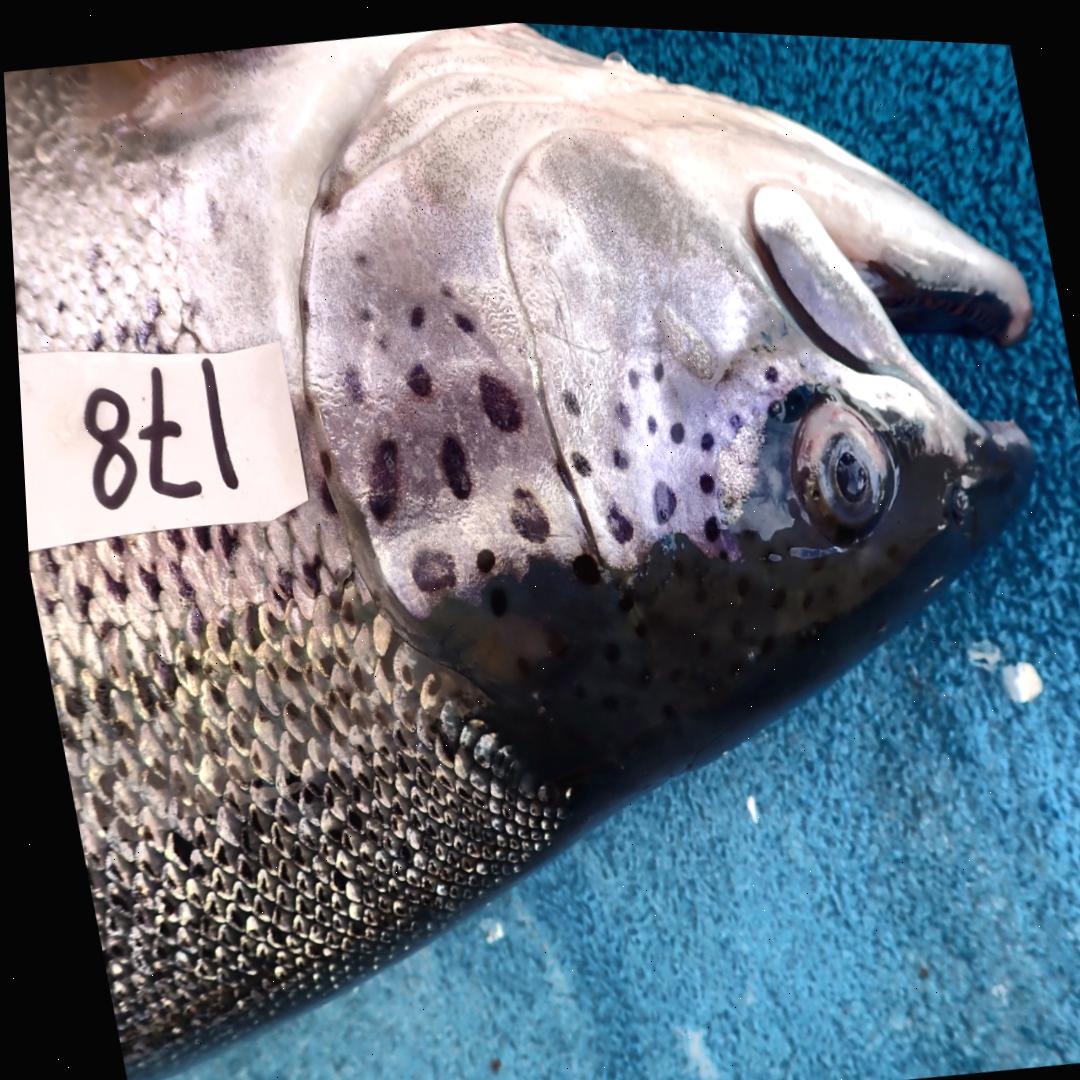spot: (360, 434, 393, 520), (473, 369, 517, 428), (503, 482, 544, 538), (404, 545, 450, 588), (434, 431, 465, 494), (547, 451, 573, 499), (600, 495, 627, 538), (646, 473, 670, 519), (401, 359, 428, 394), (338, 363, 359, 400), (687, 424, 713, 447), (468, 543, 488, 569), (565, 446, 585, 472), (348, 300, 370, 321), (557, 384, 574, 410), (605, 442, 623, 465), (449, 308, 469, 328), (610, 395, 625, 421), (405, 301, 421, 325), (697, 510, 712, 534), (693, 465, 709, 487), (663, 415, 679, 436), (436, 277, 453, 295), (647, 354, 659, 374), (371, 331, 384, 348), (623, 362, 634, 382), (760, 359, 774, 374), (724, 406, 737, 421), (351, 249, 364, 264), (641, 410, 652, 427)
